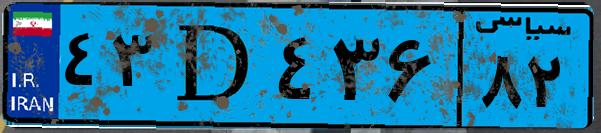2: (525, 38, 570, 115)
3: (330, 28, 385, 110), (110, 28, 158, 98)
4: (270, 28, 330, 110), (57, 26, 110, 100)
6: (385, 28, 445, 110)
8: (475, 38, 525, 113)
D: (158, 12, 270, 120)
